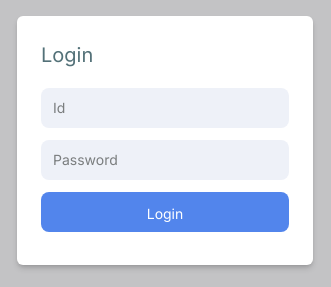
Scenario: Login Component › handles login form validations
Step 1. Type "0" into the field with placeholder "Id" → (165, 108), box [41,88,289,128]
Step 2. Type "testPassword" into the password field with placeholder "Password" → (165, 160), box [41,140,289,180]
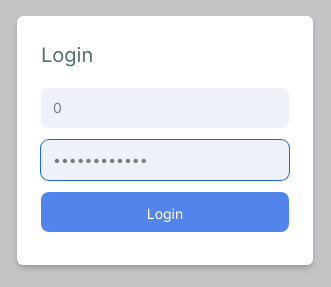
Step 3. Click the button "Login" → (165, 212), box [41,192,289,232]
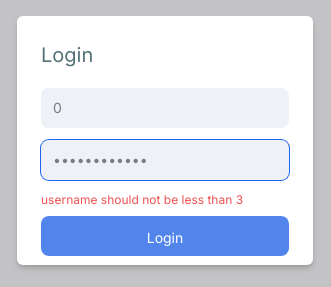
Result: the text "username should not be less than 3" is shown at [41,192,243,206]
Step 4. Clear the password field with placeholder "Password" → (165, 160), box [41,140,289,180]
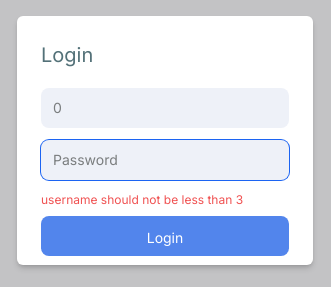
Step 5. Type "ExtraLongUsername" into the field with placeholder "Id" → (165, 108), box [41,88,289,128]
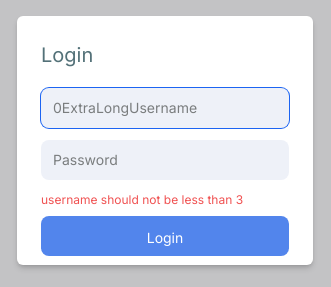
Step 6. Type "0" into the password field with placeholder "Password" → (165, 160), box [41,140,289,180]
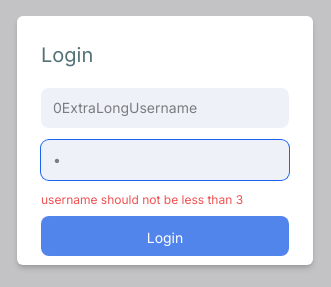
Step 7. Click the button "Login" → (165, 236), box [41,216,289,256]
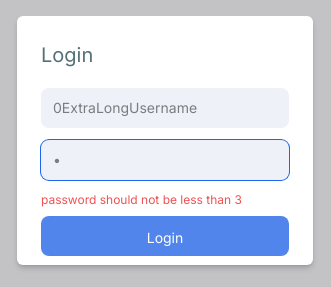
Result: the text "password should not be less than 3" is shown at [41,192,242,206]
